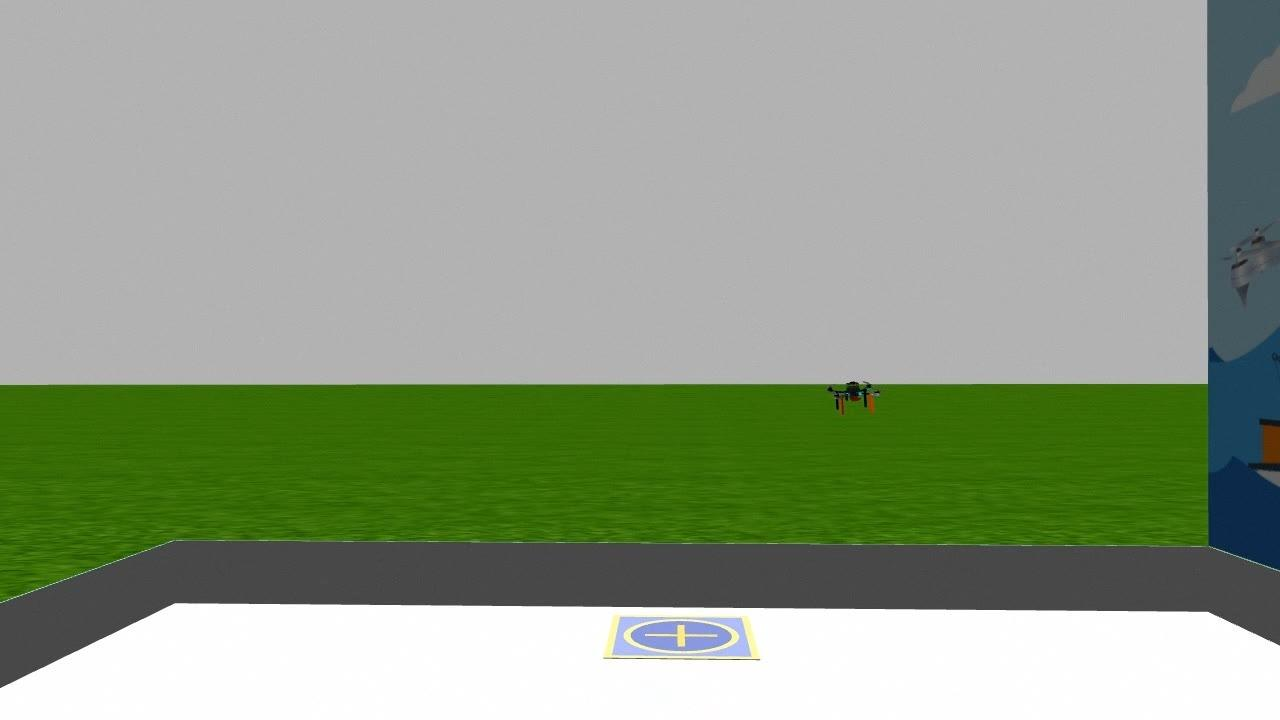UAV: (802, 361, 909, 430)
